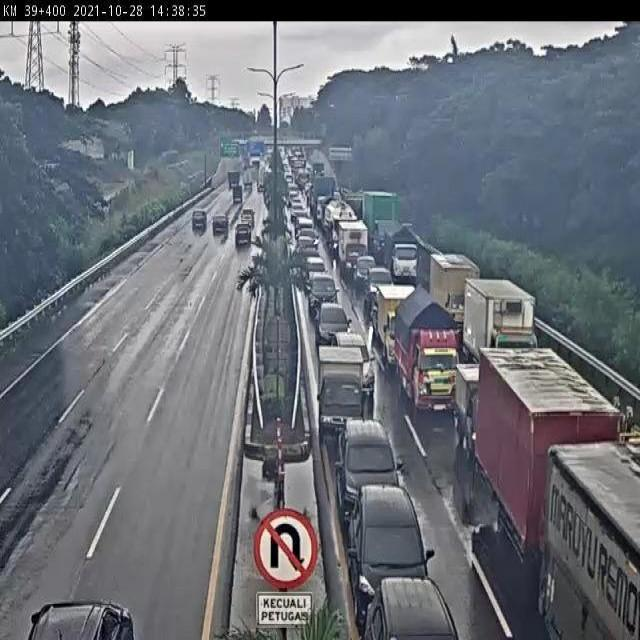car: (355, 484, 432, 575), (335, 427, 410, 503), (373, 573, 458, 640), (337, 331, 371, 393), (315, 302, 349, 342), (309, 278, 346, 314), (355, 253, 384, 291), (370, 265, 392, 308), (186, 208, 208, 236), (232, 225, 253, 252), (305, 257, 327, 280), (210, 212, 227, 241), (236, 205, 252, 232)
truck: (482, 353, 615, 536), (543, 440, 635, 633), (465, 279, 535, 375), (399, 287, 456, 397), (319, 342, 377, 426), (455, 364, 498, 451), (374, 287, 422, 363), (428, 252, 476, 319), (384, 225, 420, 276), (337, 221, 370, 275)
